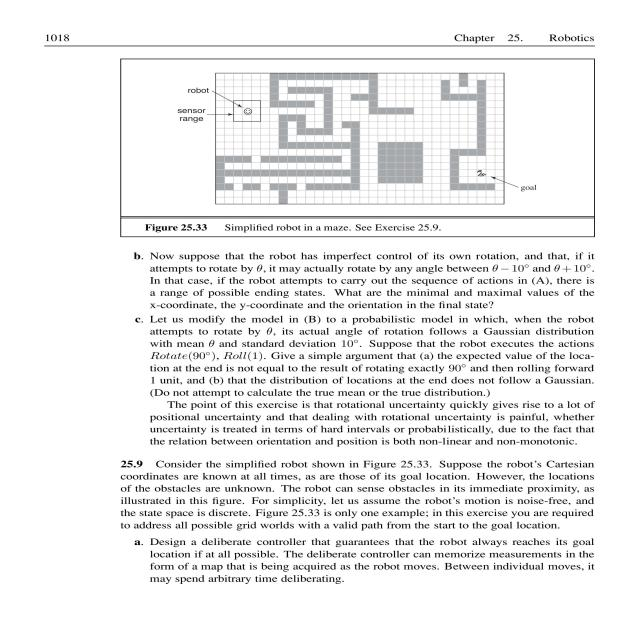diagram: (107, 54, 640, 233)
